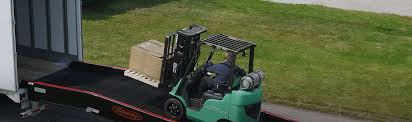Pallet Jack: (124, 24, 266, 122)
Yard Ramp: (25, 61, 309, 122)
